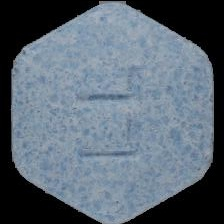51655-412: (0, 0, 224, 224)
